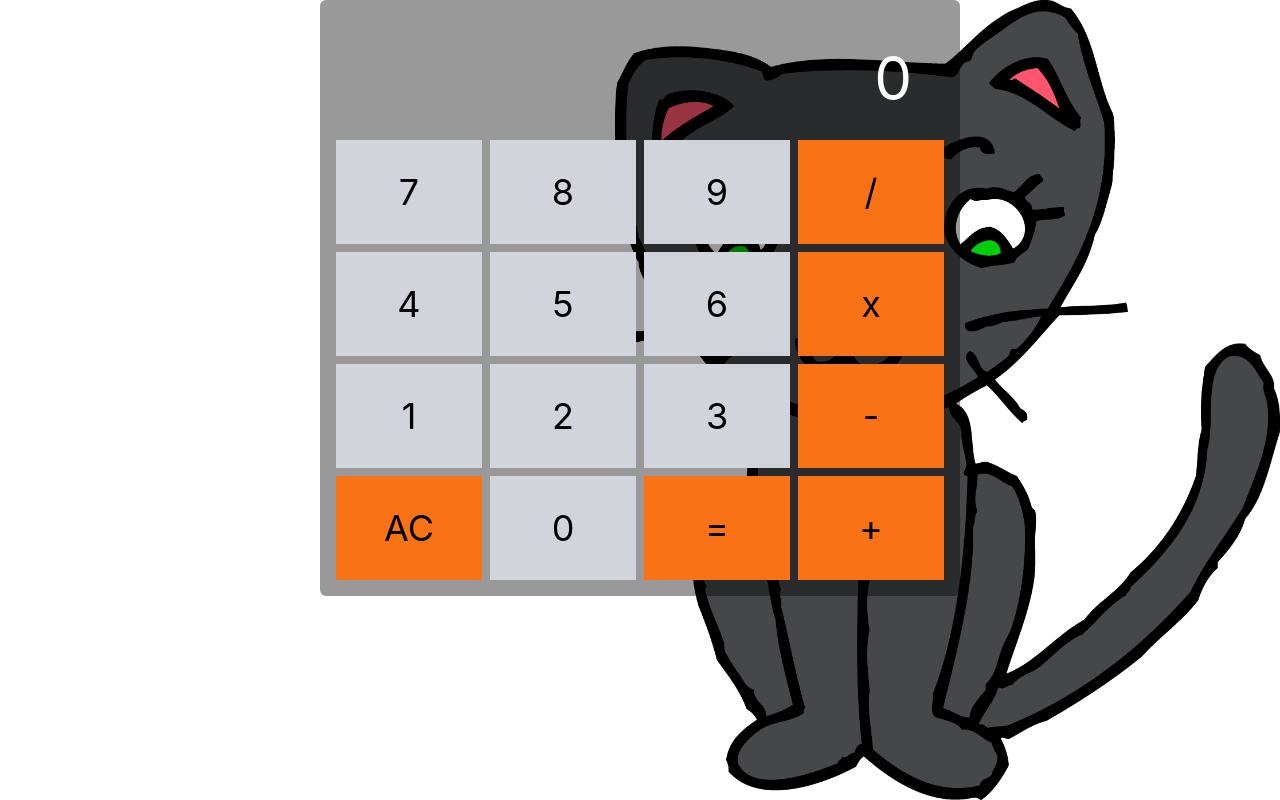
Test: clear the calculator
What coordinates should you click on to do the following:
click the button "6"
I would click on:
 (717, 304)
Its box is [644,252,790,356].
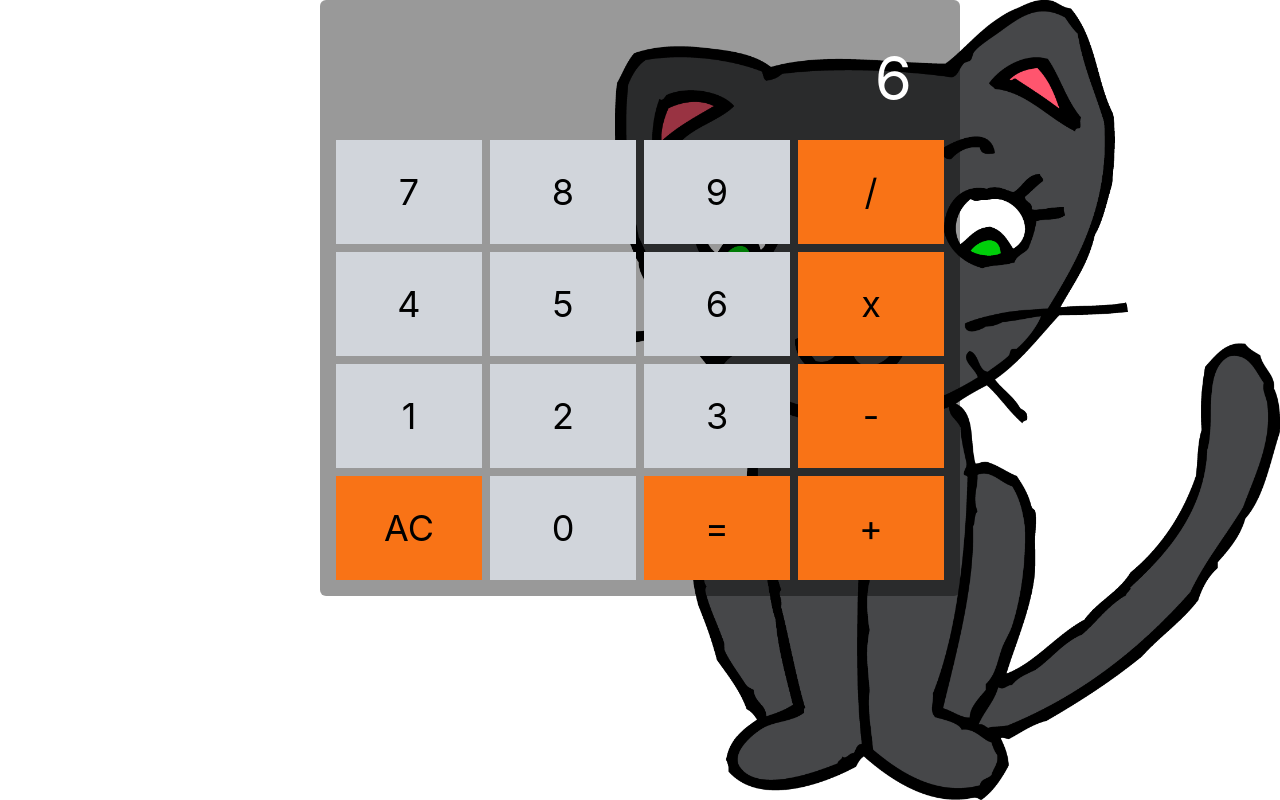
What coordinates should you click on to do the following:
click the button "9"
I would click on:
 (717, 192)
Its box is [644,140,790,244].
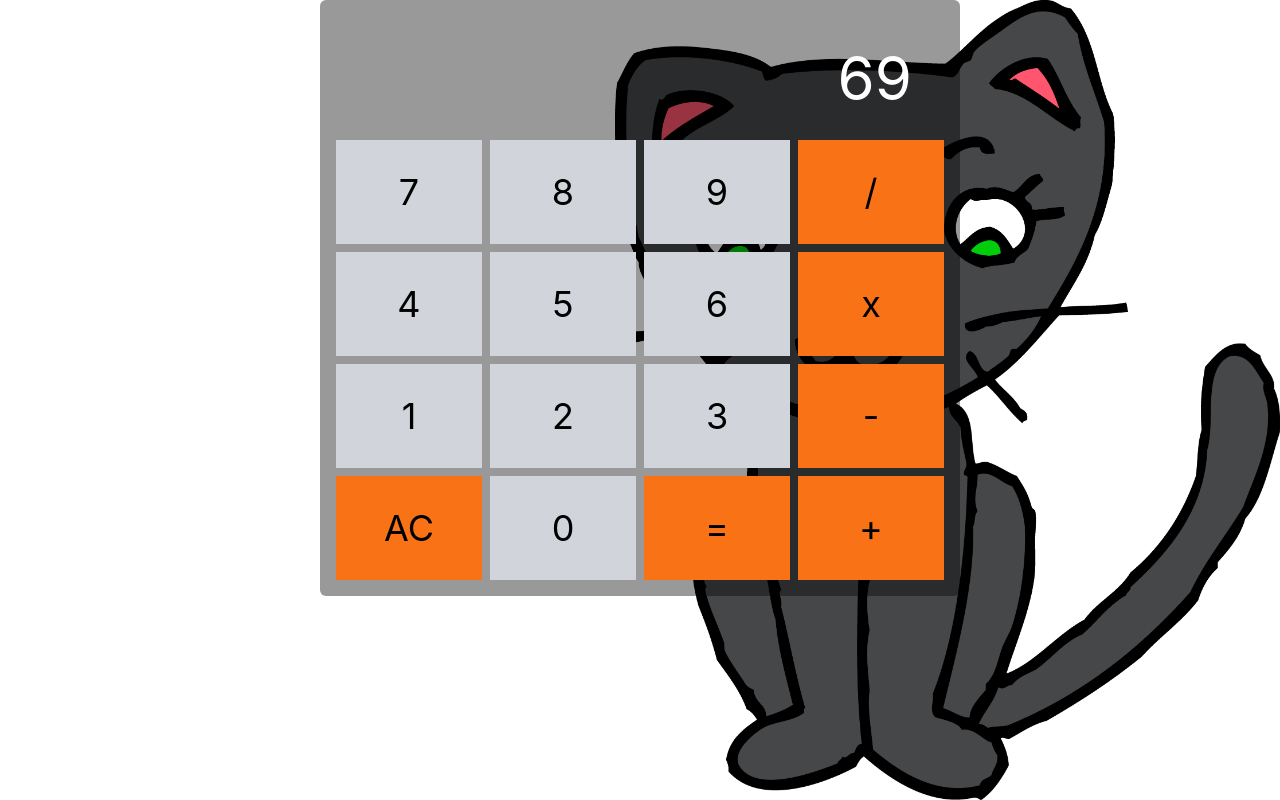
Now the heading "69" is shown, box [838,42,912,114]
What coordinates should you click on to do the following:
click the button "AC"
I would click on:
 (409, 528)
Its box is [336,476,482,580].
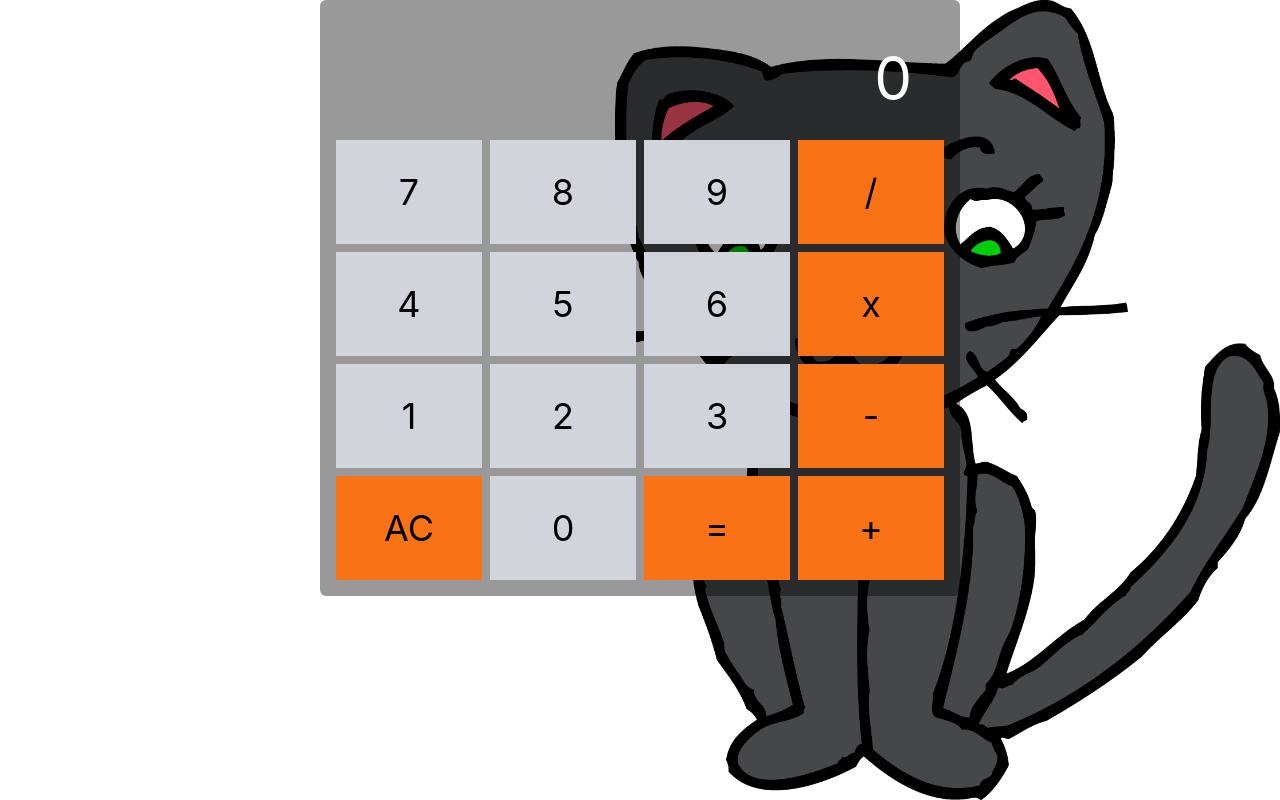
Now the heading "69" is gone
Now the heading "69" reads "0", box [874,42,912,114]
